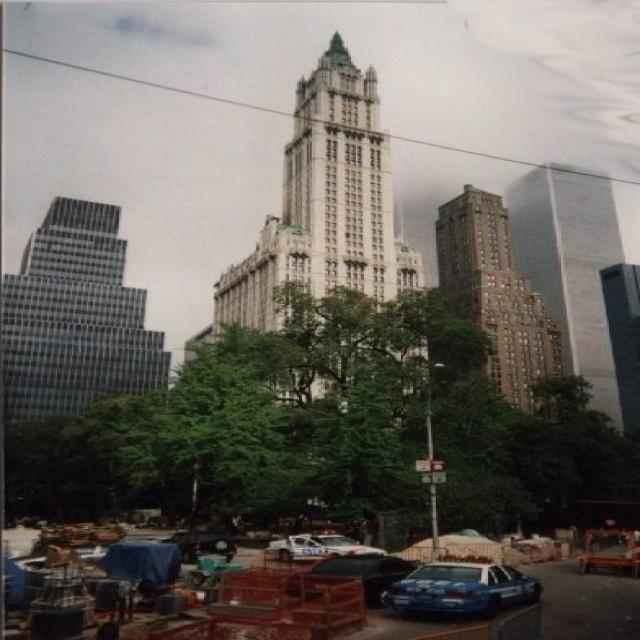building: (218, 31, 424, 421), (0, 193, 176, 430), (506, 162, 637, 443), (434, 184, 574, 424), (599, 261, 640, 441)
